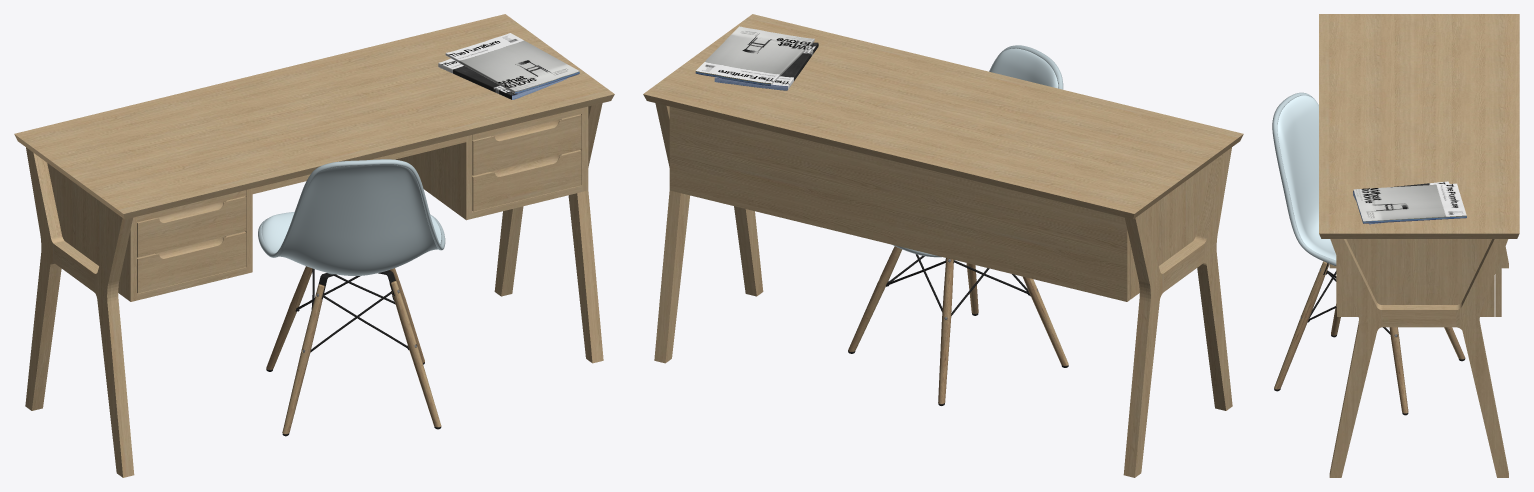
Rendered from desk.glb.
3 views of the same model, side by side, from view 1: azimuth 30°, elevation 25°; view 2: azimuth 150°, elevation 25°; view 3: azimuth 270°, elevation 25° (orthographic). The views are drawn at different scales.
Visible parts, largest first — view 1: Office_Desks_Wooden_01_5, Seating_Chairs_Scandinavian_01_4, Office_Desks_Wooden_01_Drawers_2, Office_Desks_Wooden_01_Magazines_3; view 2: Office_Desks_Wooden_01_5, Seating_Chairs_Scandinavian_01_4, Office_Desks_Wooden_01_Magazines_3; view 3: Office_Desks_Wooden_01_5, Seating_Chairs_Scandinavian_01_4, Office_Desks_Wooden_01_Magazines_3.
Boxes of the visible parts, bbox=[...] form: Office_Desks_Wooden_01_5: bbox=[14, 14, 614, 477]; Seating_Chairs_Scandinavian_01_4: bbox=[258, 159, 445, 436]; Office_Desks_Wooden_01_Drawers_2: bbox=[137, 114, 581, 293]; Office_Desks_Wooden_01_Magazines_3: bbox=[438, 33, 579, 99]; Office_Desks_Wooden_01_5: bbox=[643, 14, 1243, 477]; Seating_Chairs_Scandinavian_01_4: bbox=[848, 45, 1068, 405]; Office_Desks_Wooden_01_Magazines_3: bbox=[695, 26, 818, 90]; Office_Desks_Wooden_01_5: bbox=[1319, 14, 1519, 477]; Seating_Chairs_Scandinavian_01_4: bbox=[1272, 92, 1465, 415]; Office_Desks_Wooden_01_Magazines_3: bbox=[1353, 181, 1466, 224].
Size of the model in its own units: 1.45 by 0.7967 by 0.6901.
Materials: 10 (5 with a texture image).
